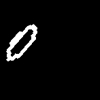chain: (7, 25, 36, 60)
